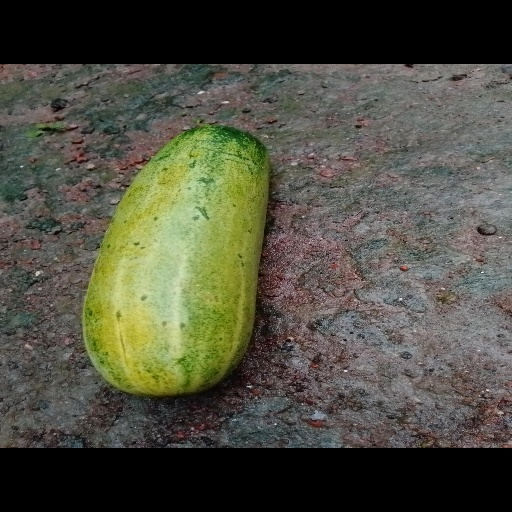concombre: (83, 124, 270, 398)
